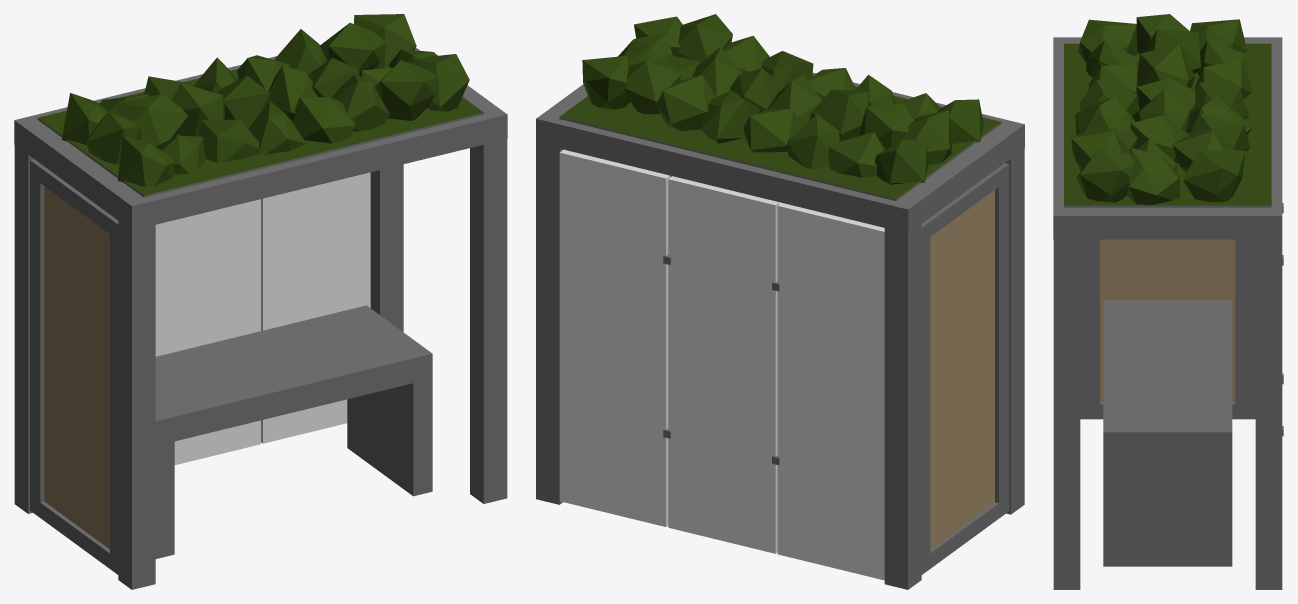
File: BusStopLvl1.fbx
3 views of the same model, side by side, from view 1: azimuth 30°, elevation 25°; view 2: azimuth 150°, elevation 25°; view 3: azimuth 270°, elevation 25° (orthographic). The views are drawn at different scales.
Parts seen in each view (by area): view 1: Cube.095; view 2: Cube.095; view 3: Cube.095.
Boxes of the visible parts, x1,y1,x2,y2 form: Cube.095: (14,14,507,589); Cube.095: (536,14,1024,589); Cube.095: (1053,14,1283,589).
Bounding box in the file's own units: 84.29 × 93.13 × 45.99.
